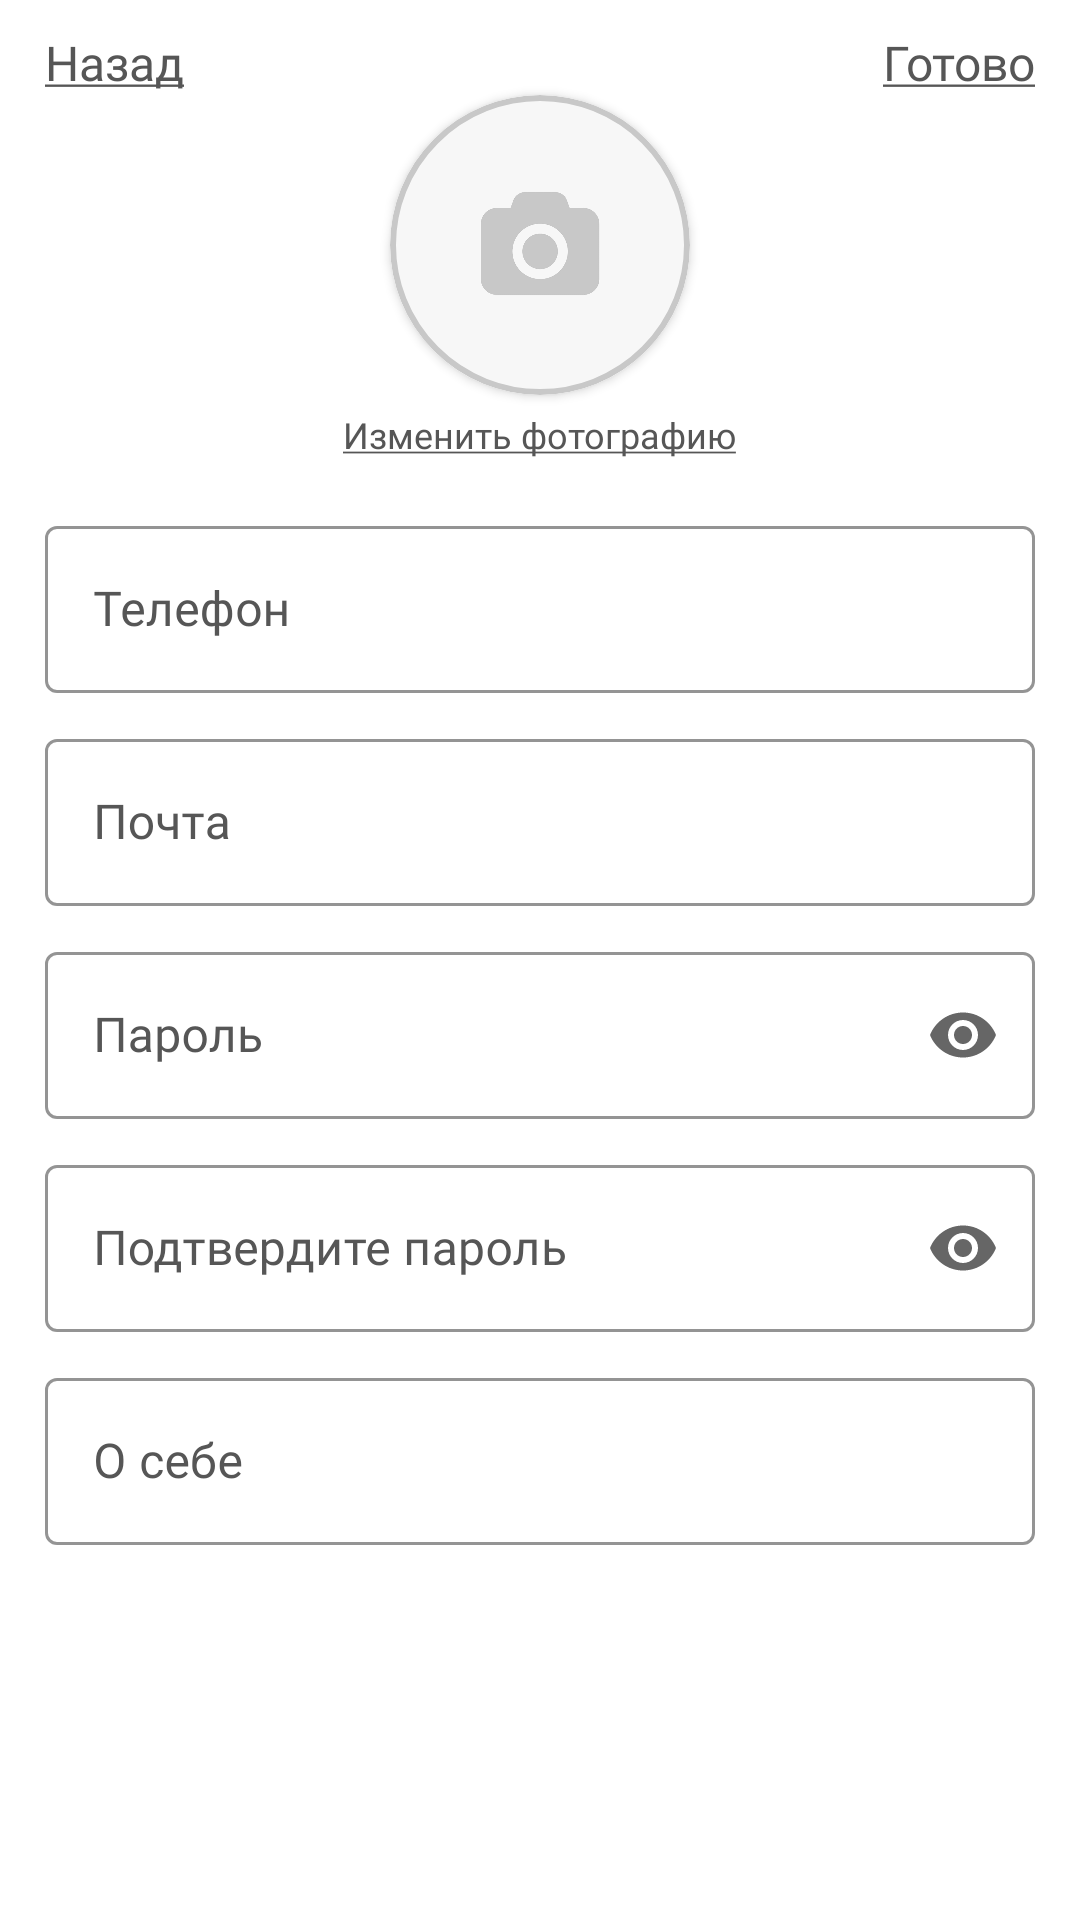

Where icons sit on this 1080×1920 app screen, as box=[x1, y1, x2, y2]:
Изображение: box=[390, 95, 690, 395]
